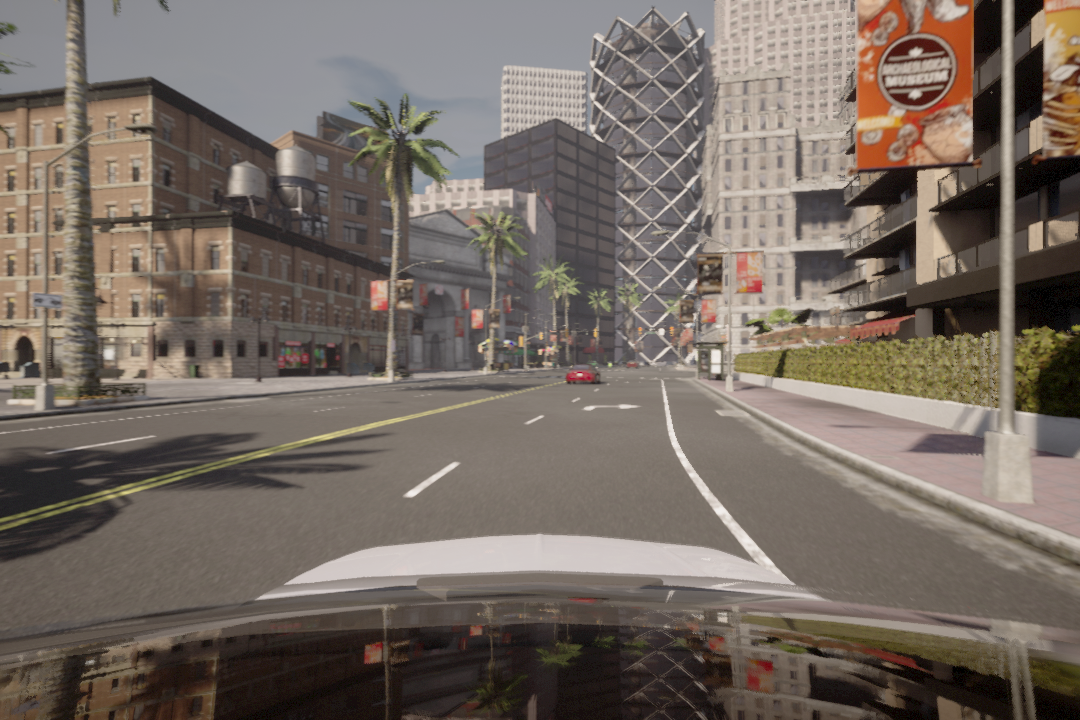RoadSign_right: (582, 401, 641, 417)
